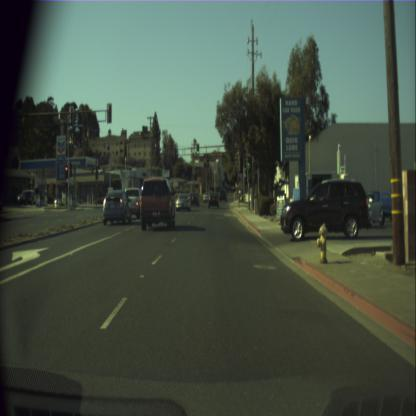Green: (247, 152, 250, 168), (196, 142, 199, 154), (244, 168, 245, 177)
Red: (64, 164, 67, 178)
